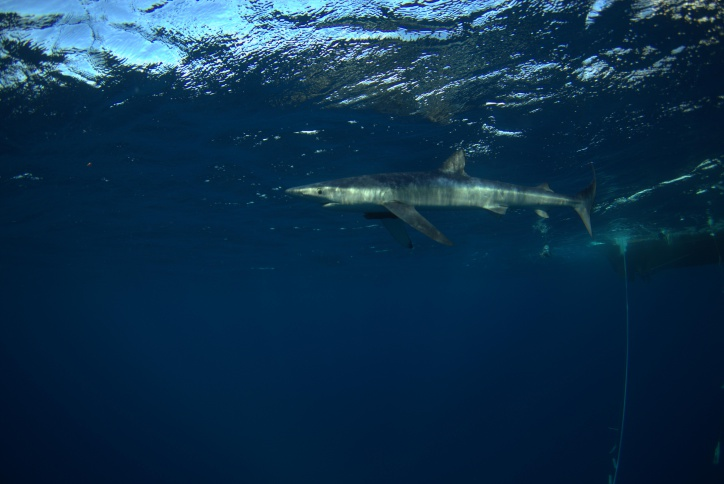Azul: (274, 117, 619, 266)
